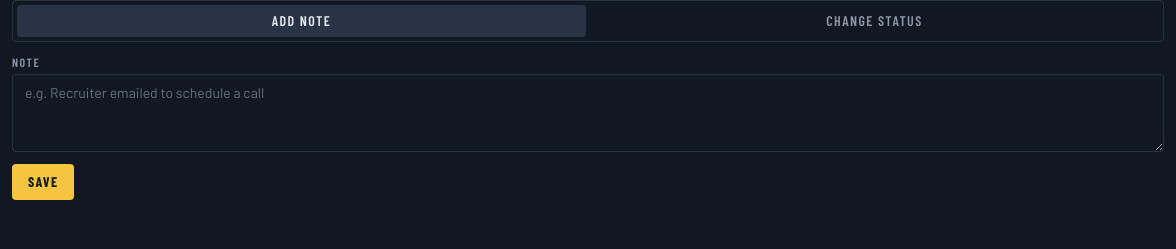
Test: AddEventForm › shows the server's error message when saving fails
Type "Follow-up sent" into the text box labelled "Note".
click(588, 113); type("Follow-up sent")  # box x1=12 y1=74 x2=1164 y2=152
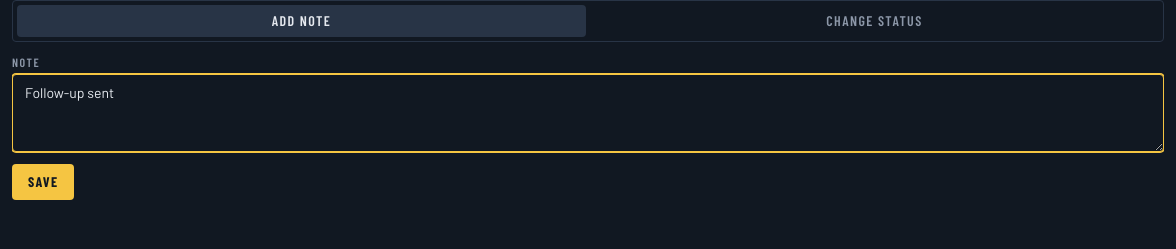
Click the button "Save".
click(43, 182)  # box x1=12 y1=164 x2=74 y2=200
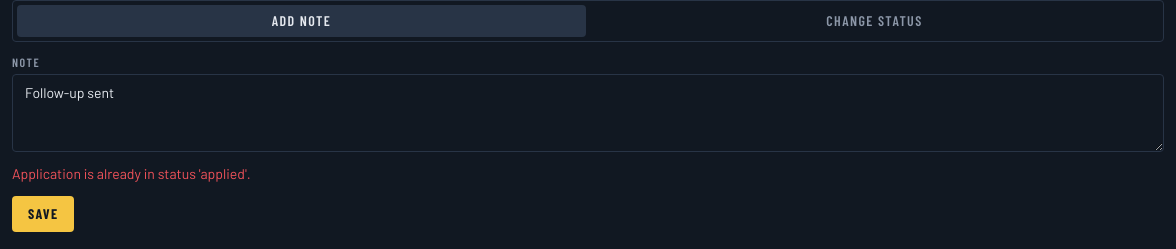
Check: the message shows "already in status", box x1=12 y1=165 x2=251 y2=182
